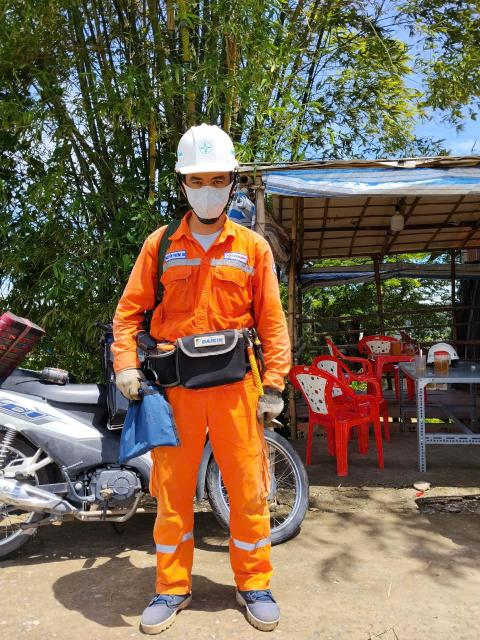gloves: (252, 375, 299, 422), (104, 360, 145, 399)
harness: (146, 322, 271, 362)
helmet: (155, 120, 252, 183)
shoes: (227, 577, 298, 633), (131, 588, 207, 637)
